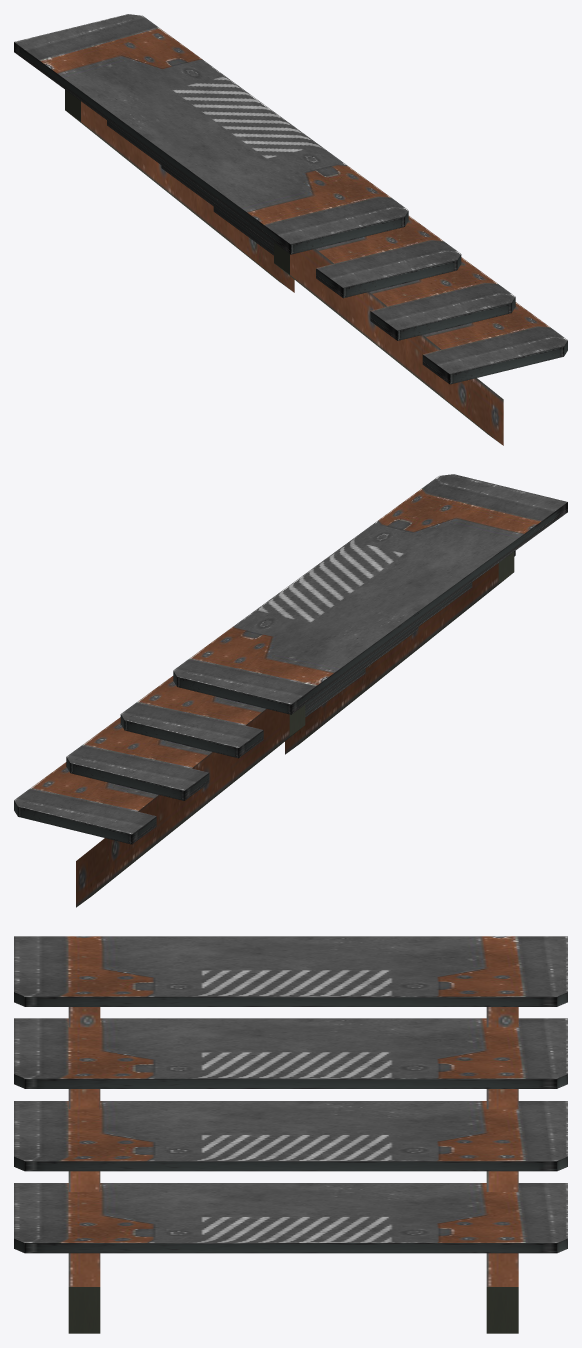
Rendered from Stair_02.fbx.
3 views of the same model, one above another, from view 1: azimuth 30°, elevation 25°; view 2: azimuth 150°, elevation 25°; view 3: azimuth 270°, elevation 25° (orthographic).
Parts seen in each view (by area): view 1: Stair_02; view 2: Stair_02; view 3: Stair_02.
Boxes of the visible parts, x1,y1,x2,y2 form: Stair_02: [14, 14, 567, 445]; Stair_02: [14, 474, 567, 907]; Stair_02: [14, 936, 567, 1333].
Bounding box in the file's own units: 106 × 100 × 180.
